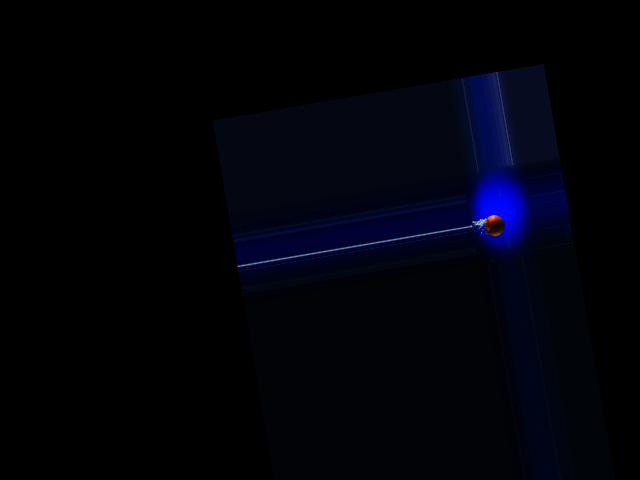tomato: (483, 213, 506, 238)
